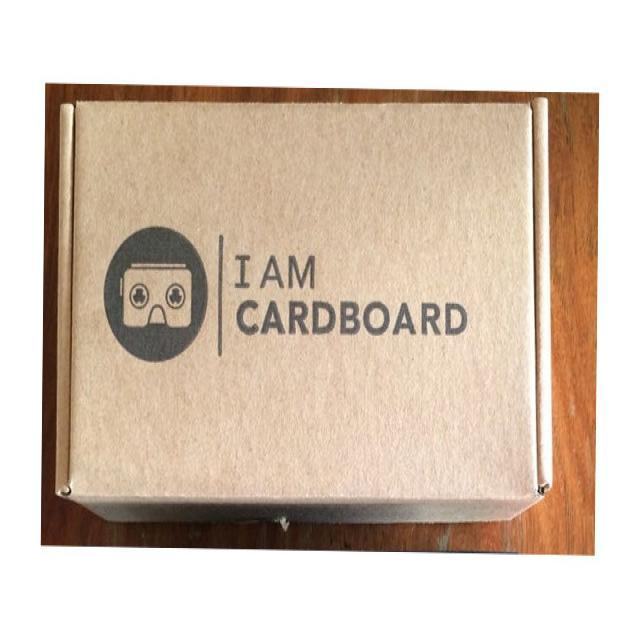Cardboard: (56, 100, 556, 528)
